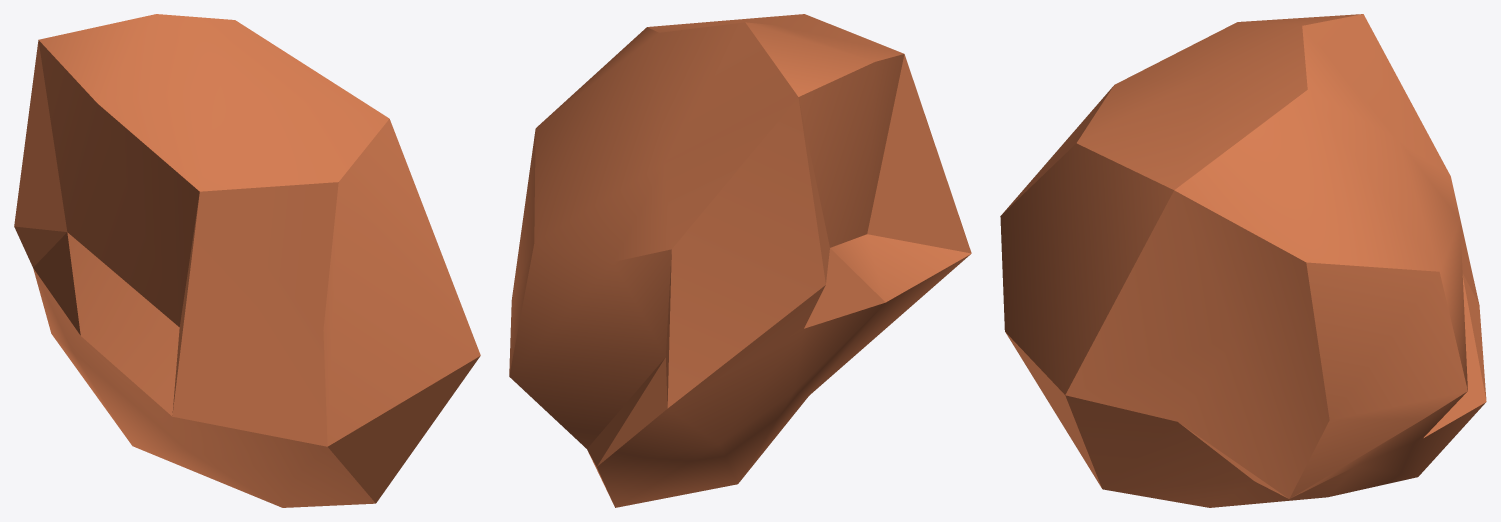
The model's file is Piedra4.fbx.
The picture shows the model from 3 angles, left to right: view 1: azimuth 30°, elevation 25°; view 2: azimuth 150°, elevation 25°; view 3: azimuth 270°, elevation 25°; orthographic projection. The views are drawn at different scales.
Visible parts, largest first — view 1: Piedra 4; view 2: Piedra 4; view 3: Piedra 4.
Boxes of the visible parts, left/top/right/bottom form: Piedra 4: left=14, top=14, right=480, bottom=507; Piedra 4: left=509, top=14, right=971, bottom=507; Piedra 4: left=1000, top=14, right=1486, bottom=507.
Bounding box in the file's own units: 508 × 710 × 700.
